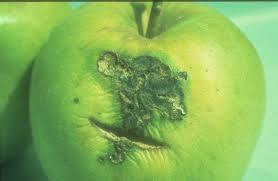damaged_apple: (32, 8, 257, 178)
